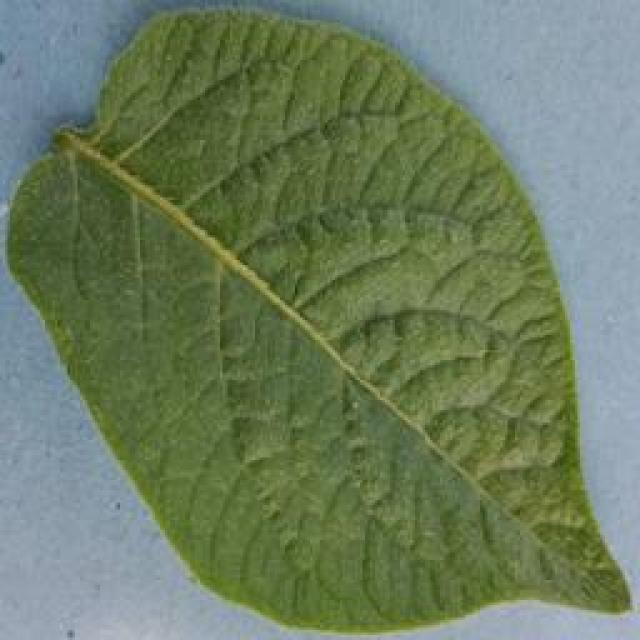Potato_Healthy: (7, 5, 622, 630)
